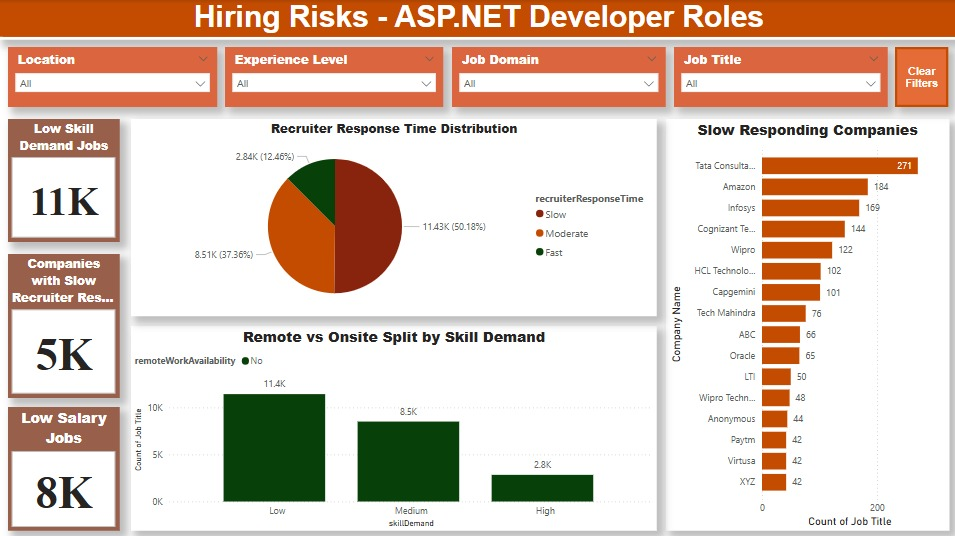

This screenshot's page, from the dashboard's own definition file:
{"tool":"powerbi","page":{"name":"Hiring Risk","canvas":[1280,720],"ordinal":5},"visuals":[{"type":"textbox","title":"Hiring Risks - ASP.NET Developer Roles","box":[0,0,1280,53.1],"z":0},{"type":"slicer","fields":{"Values":["ASP NET.Location"]},"box":[12.1,62.2,279.1,80.4],"z":2000},{"type":"slicer","fields":{"Values":["ASP NET.experienceLevel"]},"box":[301.8,62.2,291.2,80.4],"z":3000},{"type":"slicer","fields":{"Values":["ASP NET.Job Roles"]},"box":[603.6,62.2,285.1,80.4],"z":4000},{"type":"slicer","fields":{"Values":["ASP NET.Job Title"]},"box":[899.3,62.2,285.1,80.4],"z":5000},{"type":"cardVisual","title":"Low Skill Demand Jobs","fields":{"Data":["CountNonNull(ASP NET.LowSkillDemadJobs)"]},"box":[11.6,159.3,148.8,164],"z":6000},{"type":"cardVisual","title":"Companies with Slow Recruiter Response","fields":{"Data":["Avg(ASP NET.SlowResponseCompanies)"]},"box":[11.6,338.4,148.8,191.9],"z":7000},{"type":"cardVisual","title":"Low Salary Jobs","fields":{"Data":["CountNonNull(ASP NET.LowSalaryJobs)"]},"box":[11.6,543,148.8,165.1],"z":8000},{"type":"clusteredBarChart","title":"Slow Responding Companies","fields":{"Category":["ASP NET.Company Name"],"Y":["CountNonNull(ASP NET.Job Title)"]},"box":[888.7,159.2,377.6,549],"z":10000},{"type":"columnChart","title":"Remote vs Onsite Split by Skill Demand","fields":{"Category":["ASP NET.skillDemand"],"Series":["ASP NET.remoteWorkAvailability"],"Y":["CountNonNull(ASP NET.Job Title)"]},"box":[175.6,434.9,701.2,273.3],"z":11000},{"type":"pieChart","title":"Recruiter Response Time Distribution","fields":{"Category":["ASP NET.recruiterResponseTime"],"Y":["CountNonNull(ASP NET.Job Title)"]},"box":[175.6,159.3,701.2,262.8],"z":12000},{"type":"actionButton","box":[1195.1,62.2,71.3,80.4],"z":14000}]}

Visuals, with their boxes in screenshot pixels (x1, y1, x2, y2), scaled from the page's 1280x720 canvas onto the 955x536 screenshot:
"Hiring Risks - ASP.NET Developer Roles" textbox: 0,0,954,40
slicer - ASP NET.Location: 9,46,217,106
slicer - ASP NET.experienceLevel: 225,46,442,106
slicer - ASP NET.Job Roles: 450,46,663,106
slicer - ASP NET.Job Title: 671,46,884,106
"Low Skill Demand Jobs" cardVisual: 9,119,120,241
"Companies with Slow Recruiter Response" cardVisual: 9,252,120,395
"Low Salary Jobs" cardVisual: 9,404,120,527
"Slow Responding Companies" clusteredBarChart: 663,119,945,527
"Remote vs Onsite Split by Skill Demand" columnChart: 131,324,654,527
"Recruiter Response Time Distribution" pieChart: 131,119,654,314
actionButton: 892,46,945,106
